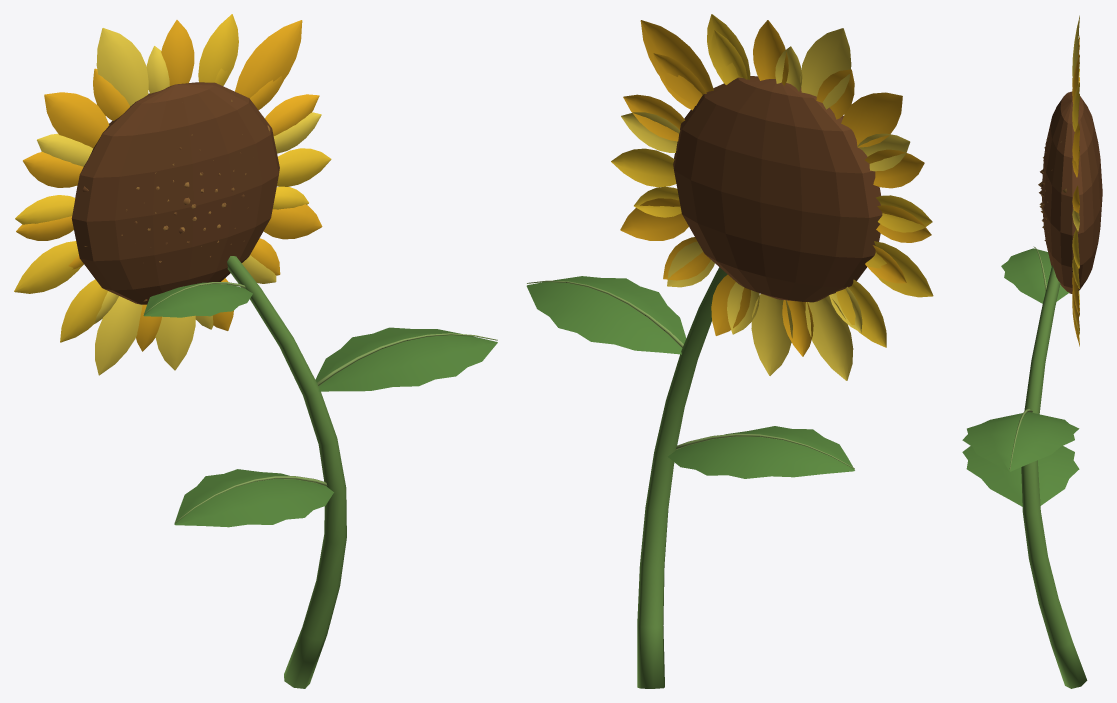
File: sunflower-test-bloom-1-3.glb
3 renders of one model, left to right at view 1: azimuth 30°, elevation 25°; view 2: azimuth 150°, elevation 25°; view 3: azimuth 270°, elevation 25°, orthographic. The views are drawn at different scales.
Visible parts, largest first — view 1: Curved tapered stem; view 2: Curved tapered stem; view 3: Curved tapered stem.
Boxes of the visible parts, left/top/right/bottom form: Curved tapered stem: left=14, top=14, right=497, bottom=688; Curved tapered stem: left=526, top=14, right=933, bottom=688; Curved tapered stem: left=962, top=15, right=1102, bottom=688.
Size of the model in its own units: 0.3238 by 0.4912 by 0.1056.
